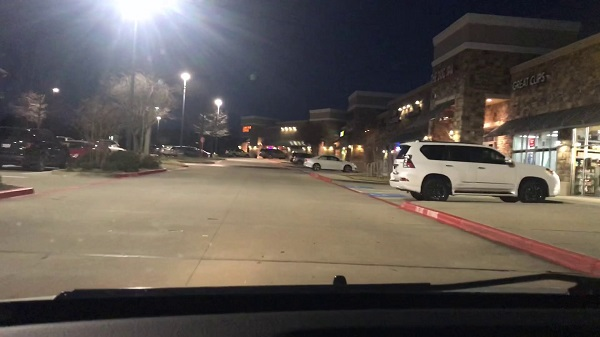car: (391, 141, 561, 201), (301, 154, 357, 172)
